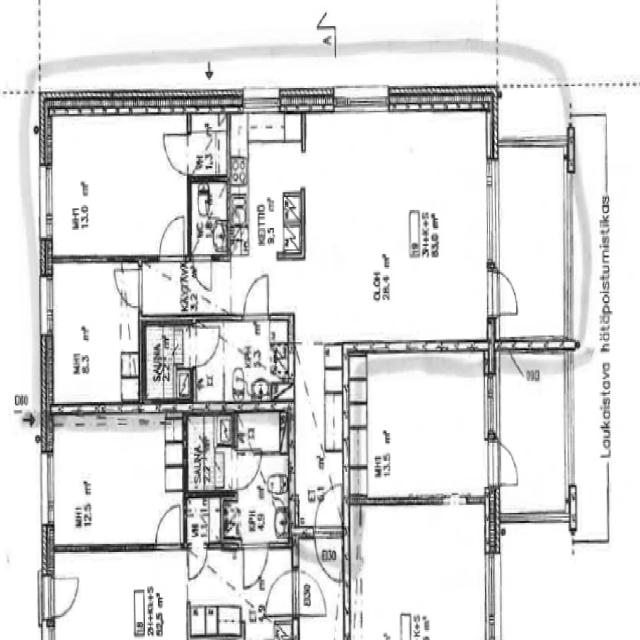door: (484, 265, 522, 319), (43, 572, 83, 621), (294, 566, 328, 622), (263, 568, 298, 622), (312, 482, 344, 540), (486, 438, 522, 488), (240, 540, 270, 594), (242, 270, 272, 323), (160, 130, 192, 177), (156, 212, 186, 262), (154, 502, 184, 551), (115, 260, 144, 310), (314, 534, 344, 582), (192, 322, 221, 370), (233, 448, 263, 491), (191, 253, 215, 296), (187, 544, 209, 582)
window: (562, 353, 579, 487), (38, 442, 57, 530), (482, 548, 501, 634), (335, 83, 391, 112), (485, 156, 498, 272), (482, 367, 502, 442), (38, 158, 56, 240), (39, 270, 56, 340), (241, 91, 281, 113)
zone: (300, 105, 488, 350), (346, 348, 490, 503), (46, 115, 188, 258), (350, 501, 490, 640), (46, 426, 185, 550), (46, 262, 140, 413), (494, 344, 571, 518), (230, 110, 304, 259), (193, 320, 293, 408), (224, 444, 292, 547), (143, 322, 195, 404), (186, 414, 237, 494), (189, 178, 231, 252), (187, 110, 229, 179), (311, 478, 346, 554), (184, 494, 224, 546), (314, 534, 342, 582)
